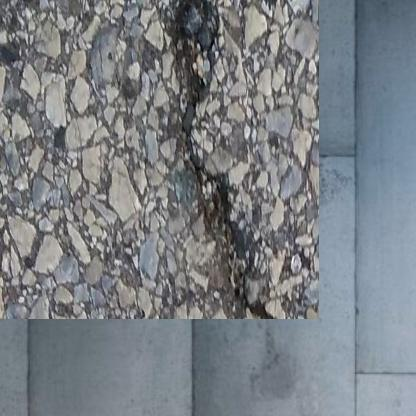Cracks: (155, 0, 252, 295)
